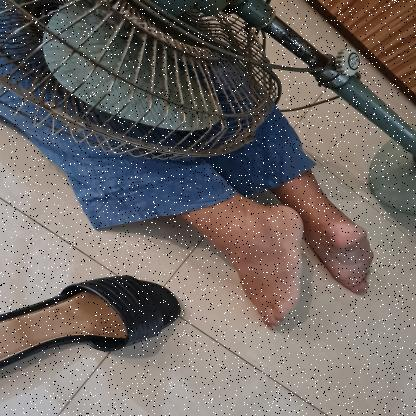leg: (189, 194, 313, 335), (276, 169, 388, 304)
